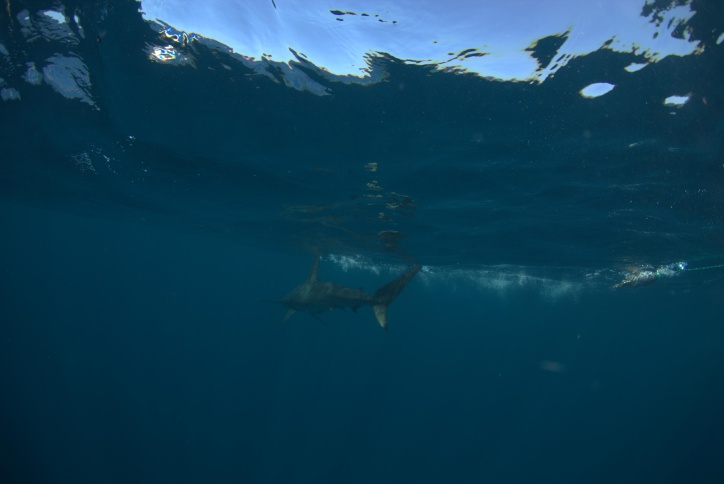Hammer: (237, 223, 439, 348)
